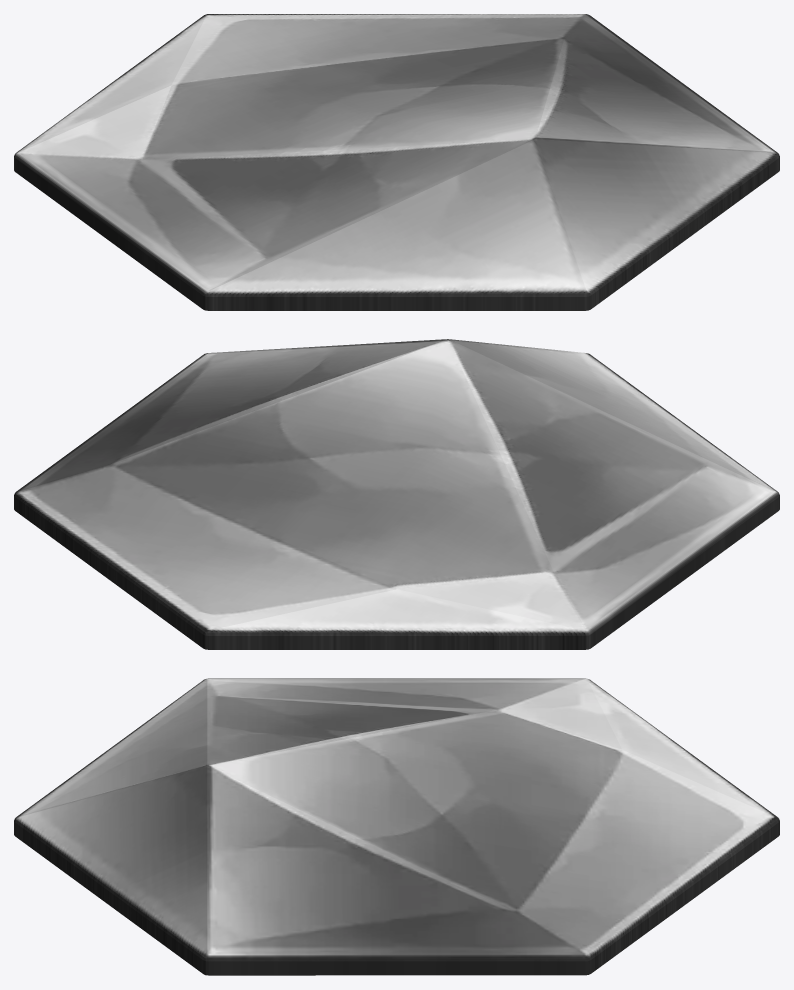
Rendered from hex.glb.
3 renders of one model, top to bottom at view 1: azimuth 30°, elevation 25°; view 2: azimuth 150°, elevation 25°; view 3: azimuth 270°, elevation 25°, orthographic.
Visible parts, largest first — view 1: Grid; view 2: Grid; view 3: Grid.
Boxes of the visible parts, <box> form: Grid: <box>14,14,779,310</box>; Grid: <box>14,339,779,649</box>; Grid: <box>14,678,779,975</box>.
Bounding box in the file's own units: 1.73 × 0.2596 × 1.99.
Materials: 1 (1 with a texture image).
